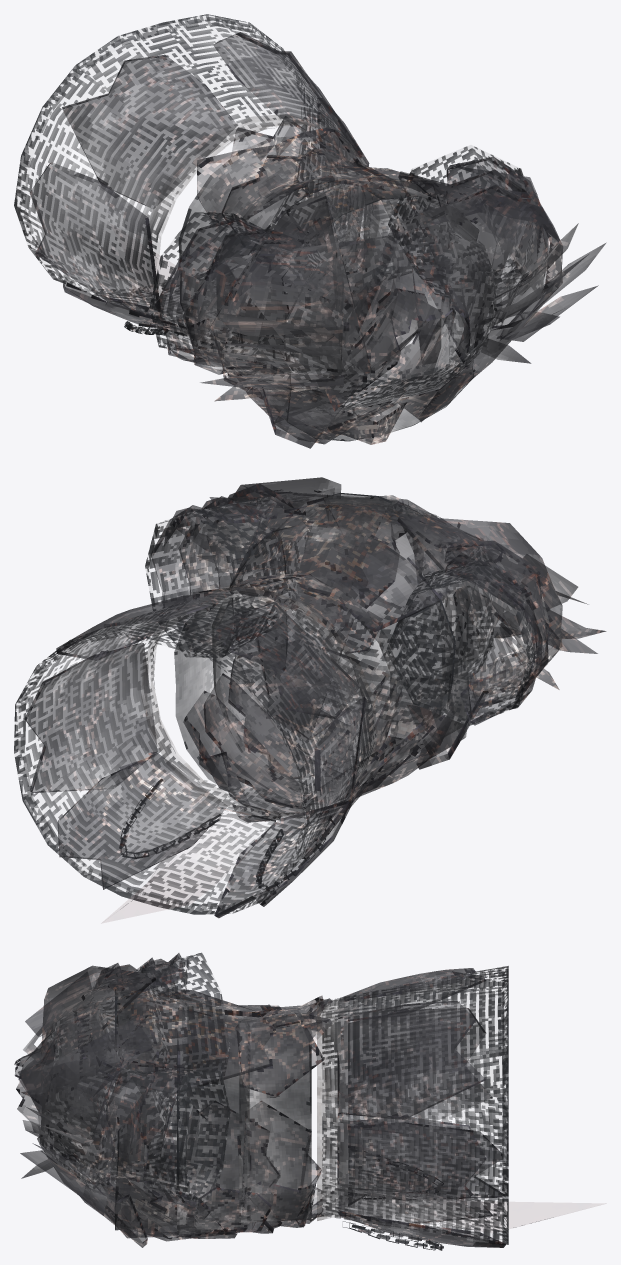
Rendered from cuirasse_obsidienne.glb.
3 renders of one model, top to bottom at view 1: azimuth 30°, elevation 25°; view 2: azimuth 150°, elevation 25°; view 3: azimuth 270°, elevation 25°, orthographic. The views are drawn at different scales.
Parts seen in each view (by area): view 1: cuirasse_obsidienne.001; view 2: cuirasse_obsidienne.001; view 3: cuirasse_obsidienne.001.
Part boxes in pixels (x1,y1,x2,y2): cuirasse_obsidienne.001: (14,14,605,448); cuirasse_obsidienne.001: (14,477,606,920); cuirasse_obsidienne.001: (14,952,553,1250).
Size of the model in its own units: 0.8694 by 0.5389 by 1.14.
6 materials, 6 textured.
